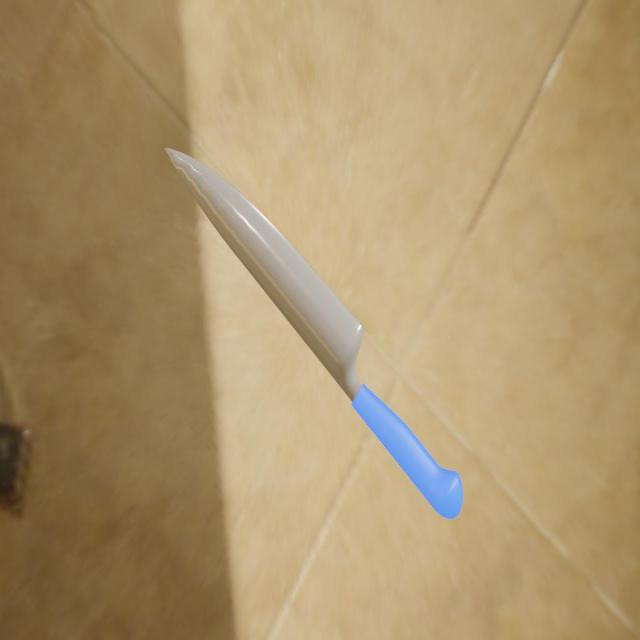knife: (351, 383, 464, 520)
